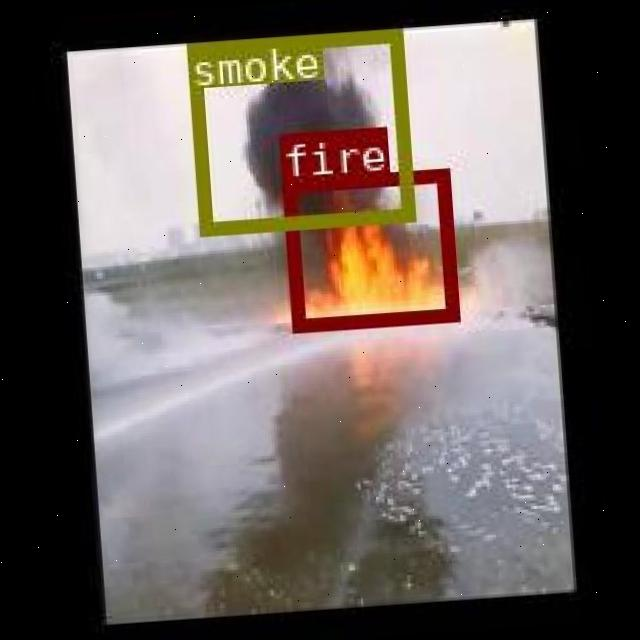fire: (281, 167, 455, 328)
smoke: (185, 26, 411, 232)
